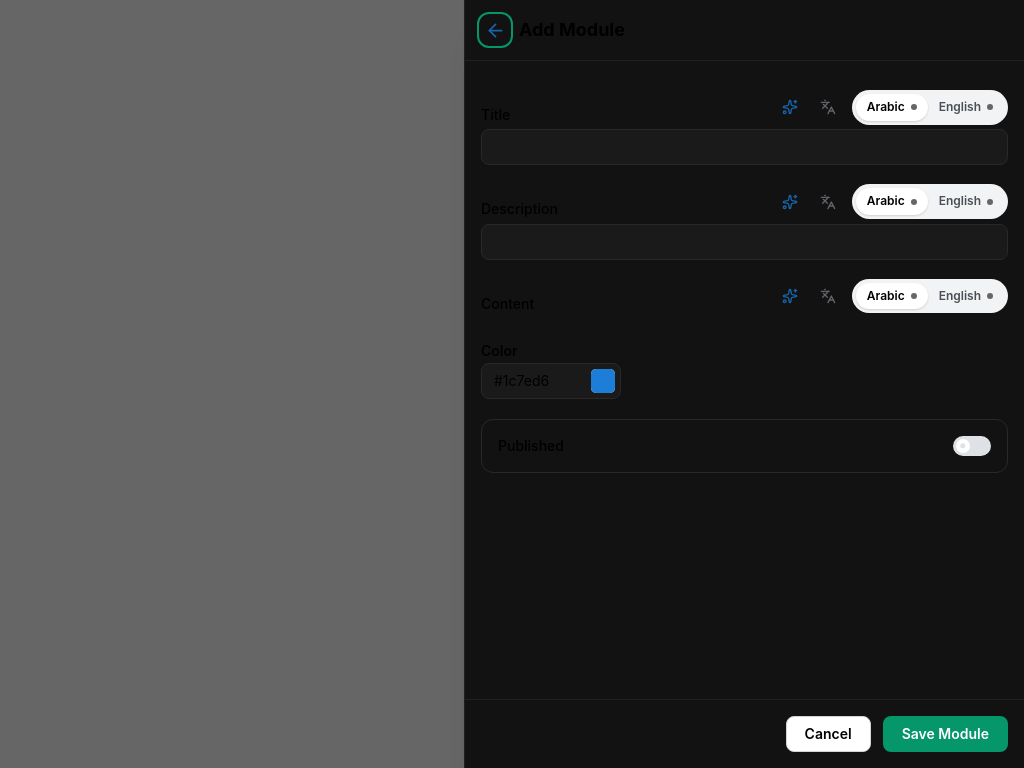
EditModuleDrawer › create mode (ANA-129) › stays open and switches to edit mode for the newly created Module once creation succeeds (ANA-129)
Click the button "Save Module". click: (945, 734)
box: [883,716,1008,752]
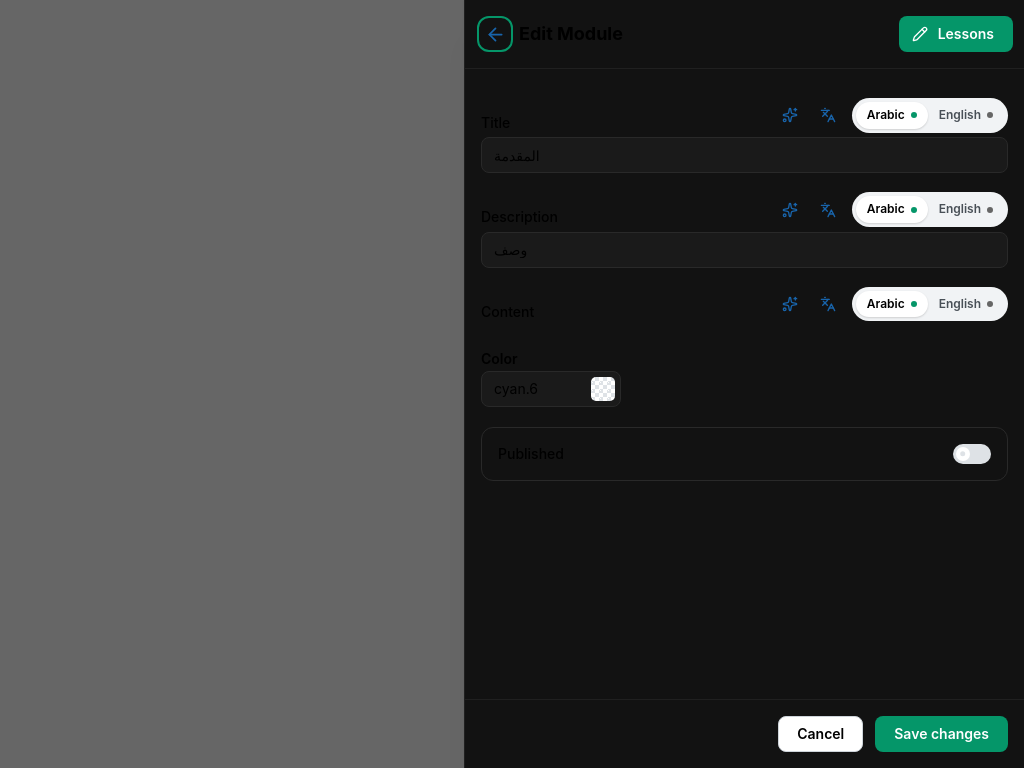
Expected: the text "Add Module" is not shown
Result: the button "Lessons" is shown at [899,16,1013,52]
